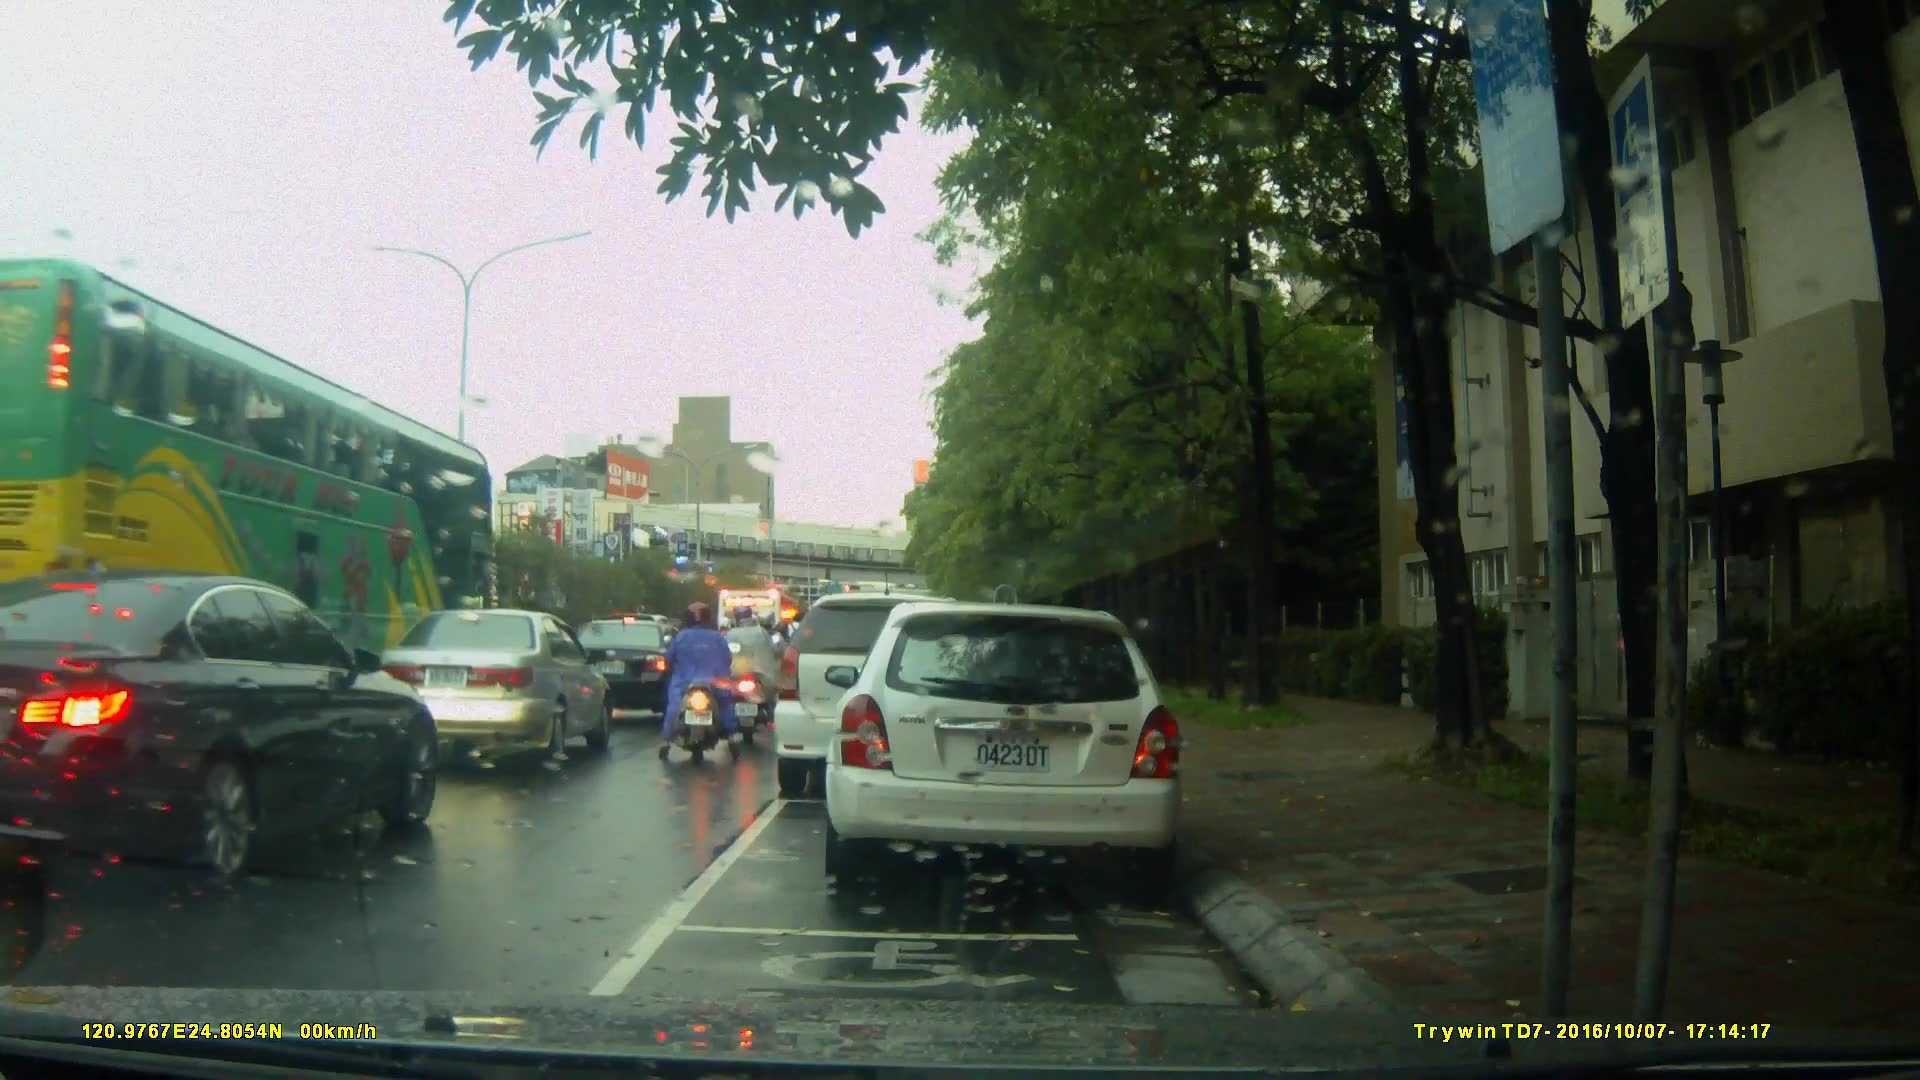rider: (663, 603, 731, 764), (731, 602, 787, 732)
vehicle: (1, 252, 508, 663), (9, 572, 436, 899), (831, 592, 1196, 897), (770, 592, 999, 798), (369, 609, 616, 774), (558, 618, 685, 726), (717, 585, 803, 706)
